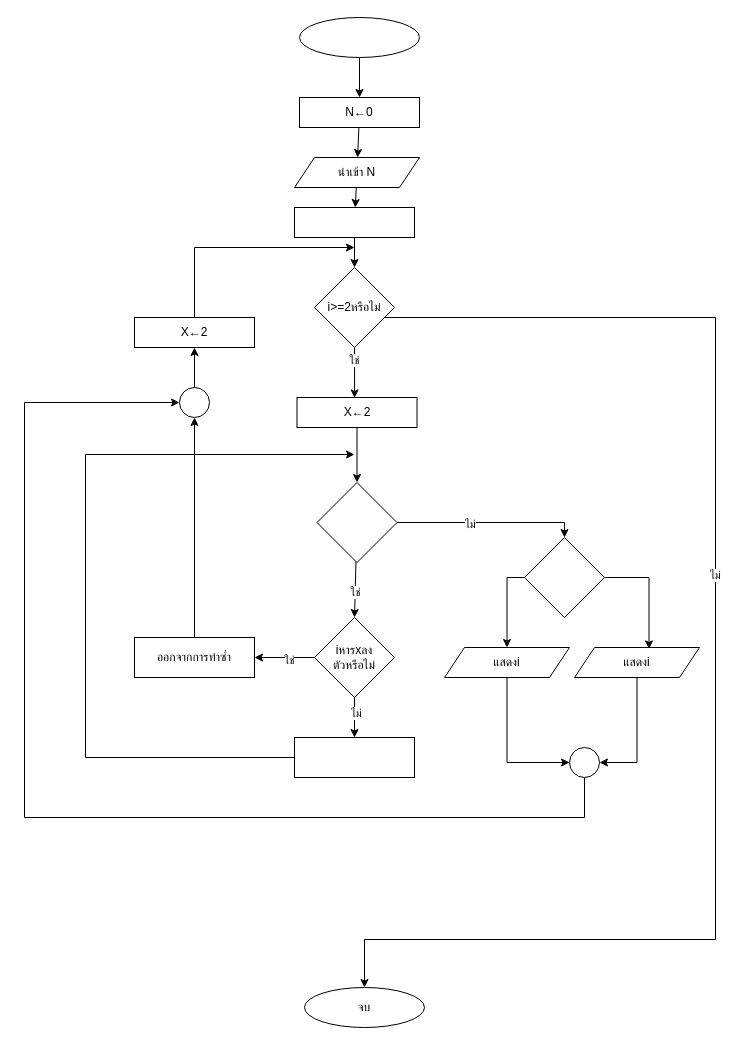
This 741x1045 diagram has some shape labels left out. Each missing label, with the centre of its shape:
i←N: the point at 354,222
x<iหรือไม่: the point at 356,522
x=iหรือไม่: the point at 564,577
x←x+1: the point at 354,757
เริ่ม: the point at 359,37
